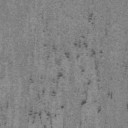oxide scale of temperature system: (26, 34, 114, 128), (0, 100, 9, 126), (87, 12, 94, 25), (104, 28, 109, 36), (124, 103, 128, 110)
